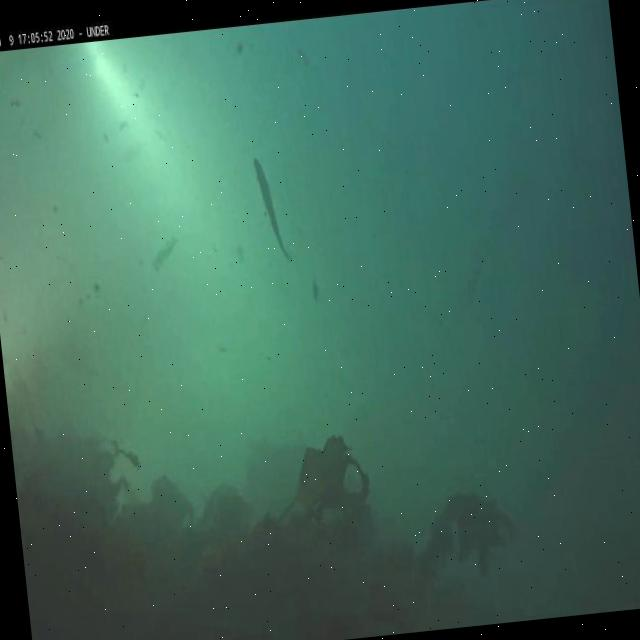fish: (253, 156, 294, 267)
